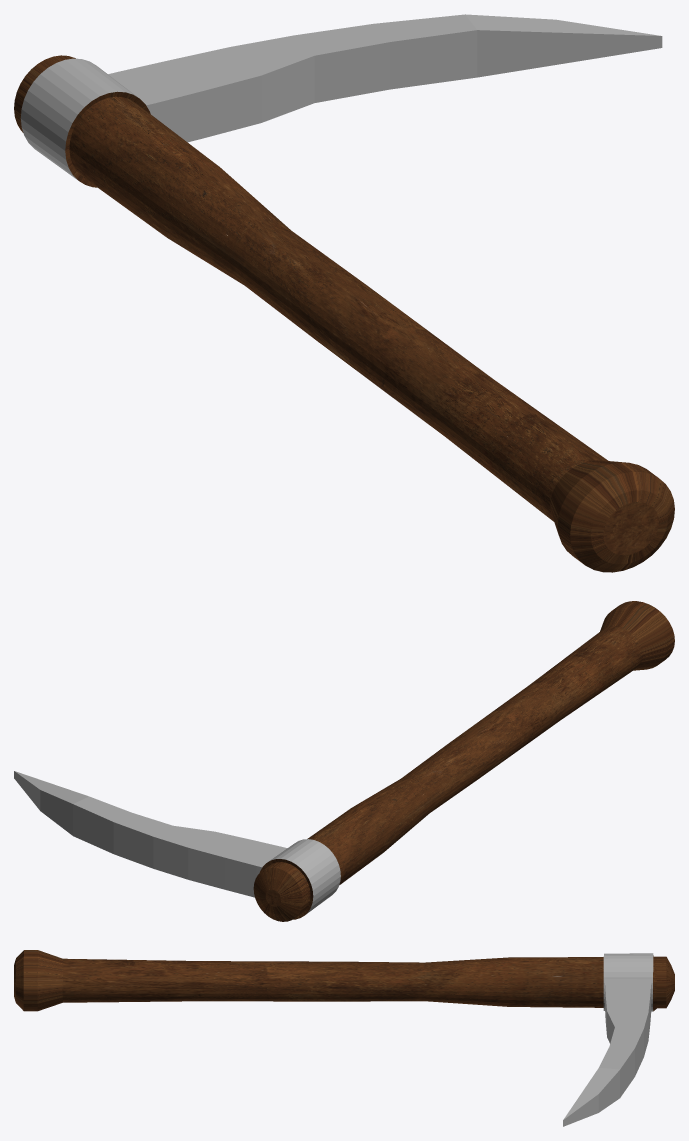
Rendered from pickaxe.glb.
3 renders of one model, top to bottom at view 1: azimuth 30°, elevation 25°; view 2: azimuth 150°, elevation 25°; view 3: azimuth 270°, elevation 25°, orthographic. The views are drawn at different scales.
Visible parts, largest first — view 1: Cylinder, Plane, Cylinder.001; view 2: Cylinder, Plane, Cylinder.001; view 3: Cylinder, Plane, Cylinder.001.
Part boxes in pixels (x1,y1,x2,y2): Cylinder: [14, 55, 674, 572]; Plane: [108, 14, 662, 142]; Cylinder.001: [20, 58, 138, 179]; Cylinder: [253, 601, 674, 921]; Plane: [14, 771, 287, 897]; Cylinder.001: [267, 839, 340, 914]; Cylinder: [14, 950, 674, 1011]; Plane: [563, 979, 651, 1126]; Cylinder.001: [603, 953, 653, 1011].
Size of the model in its own units: 7.95 by 1.29 by 14.18.
Materials: 3 (1 with a texture image).
